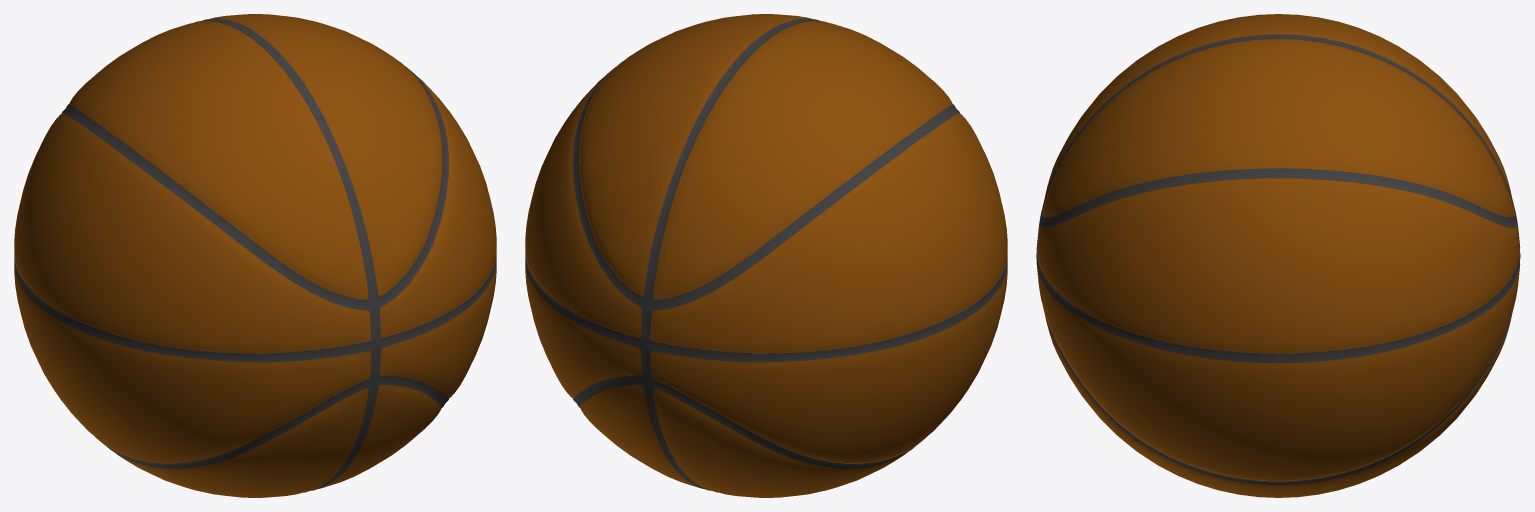
File: Basketball.fbx
3 renders of one model, left to right at view 1: azimuth 30°, elevation 25°; view 2: azimuth 150°, elevation 25°; view 3: azimuth 270°, elevation 25°, orthographic.
Visible parts, largest first — view 1: Ball; view 2: Ball; view 3: Ball.
Part boxes in pixels (left/top/right/bottom): Ball: left=14, top=14, right=496, bottom=497; Ball: left=525, top=14, right=1007, bottom=497; Ball: left=1036, top=14, right=1520, bottom=497.
Size of the model in its own units: 23.85 by 23.85 by 23.85.
